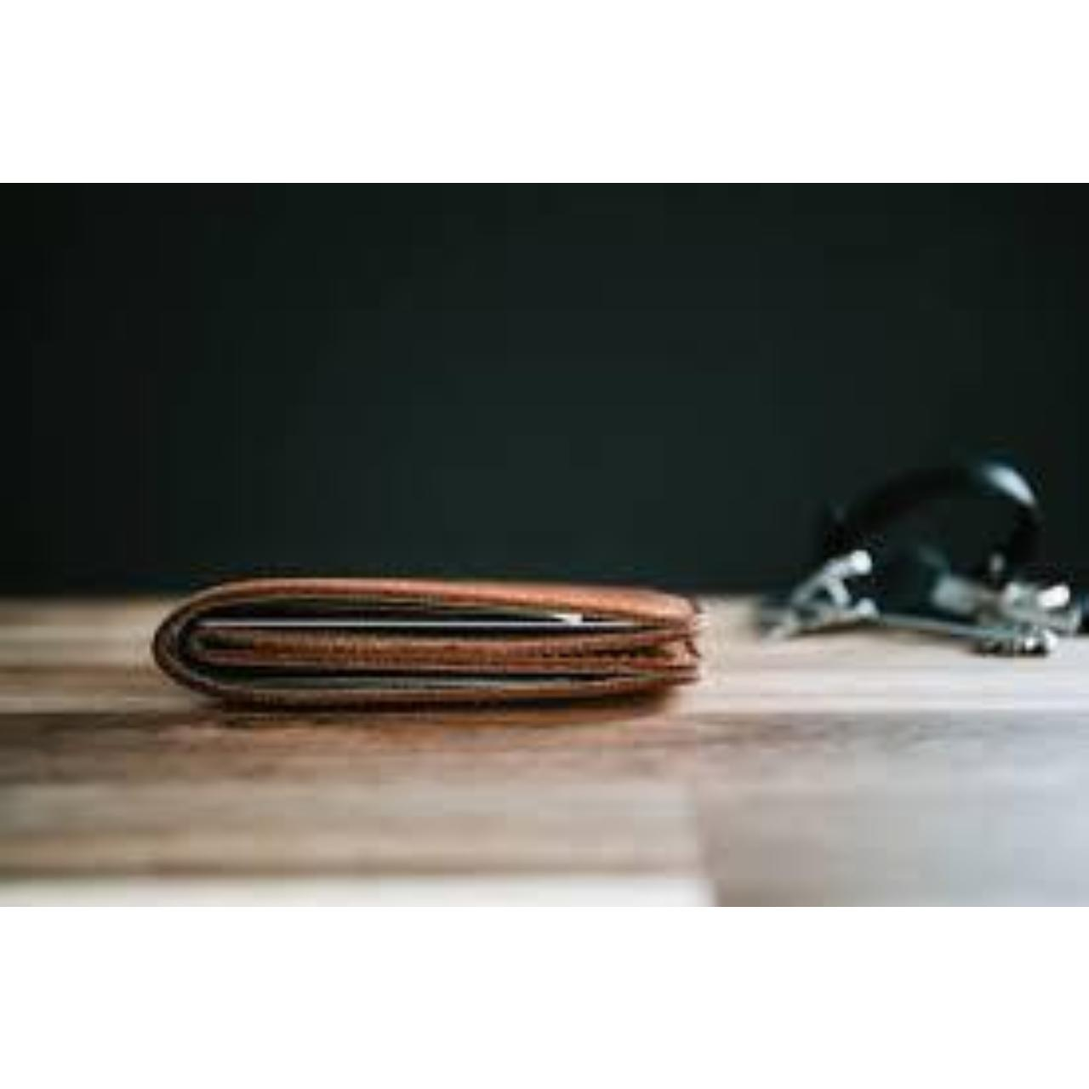wallet: (161, 568, 707, 718)
